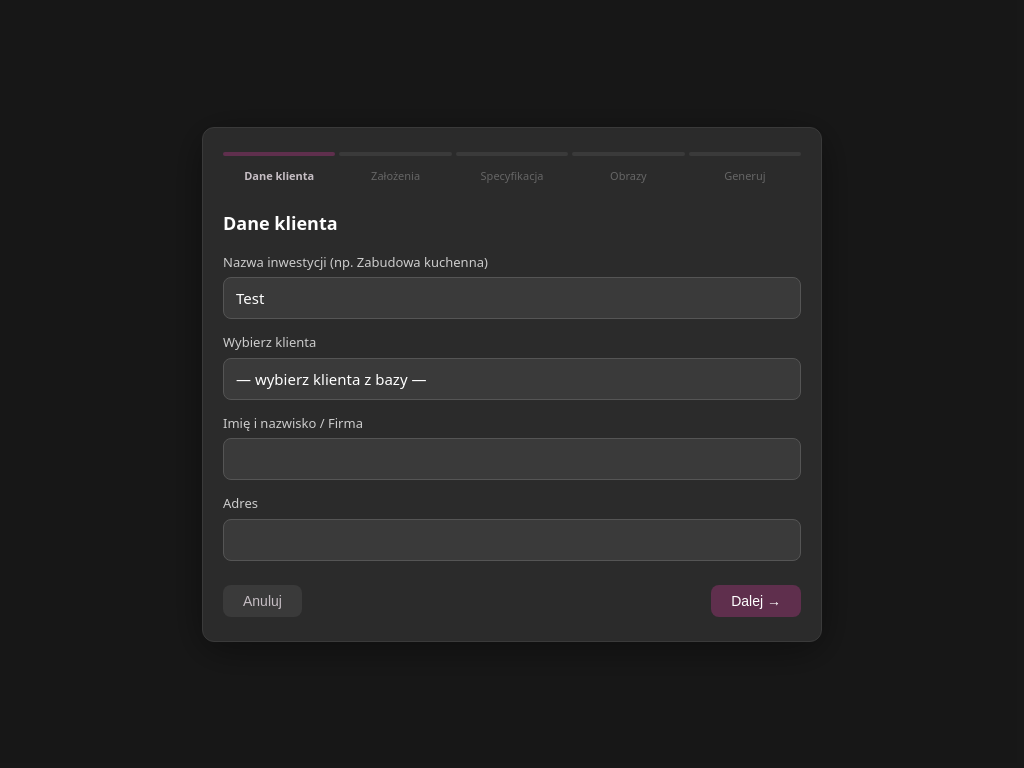
Test: KreatorPDF › krok 4: pokazuje kategorie obrazow i opcje wlasnych plikow
The image size is (1024, 768).
Expected: the field with placeholder "np. Zabudowa kuchenna" below "Nazwa inwestycji (np. Zabudowa kuchenna)" is shown, [223, 277, 801, 319]
Click the button "Dalej →": click(756, 600) [711, 584, 801, 616]
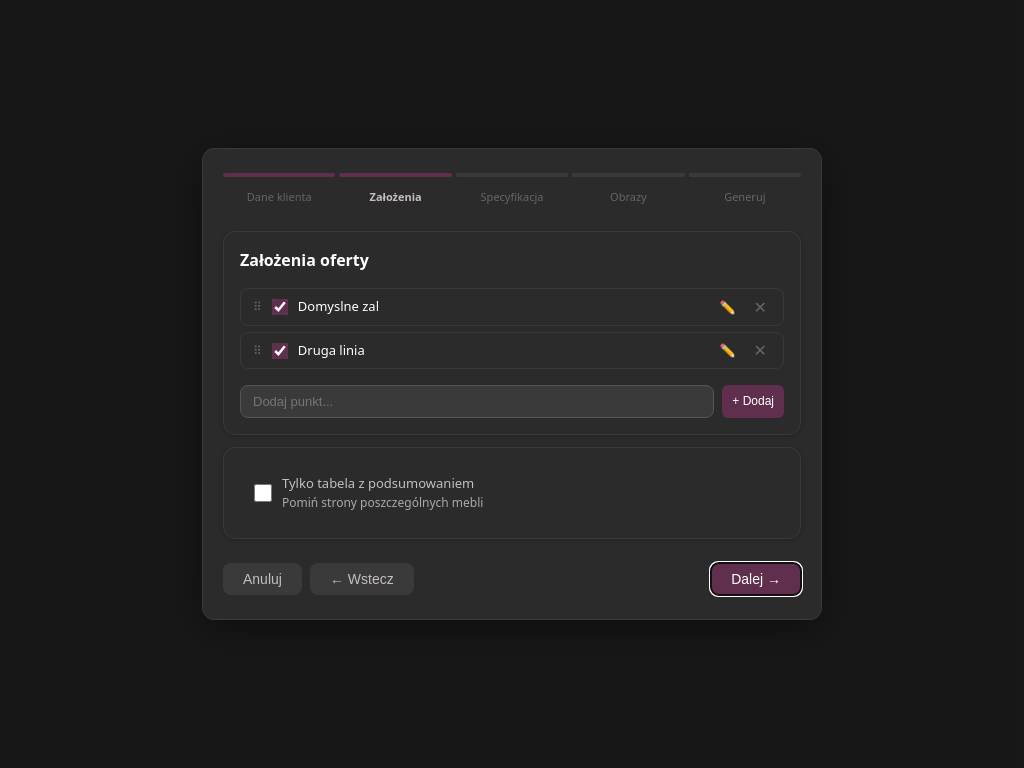
Click the button "Dalej →": click(756, 579) [711, 563, 801, 595]
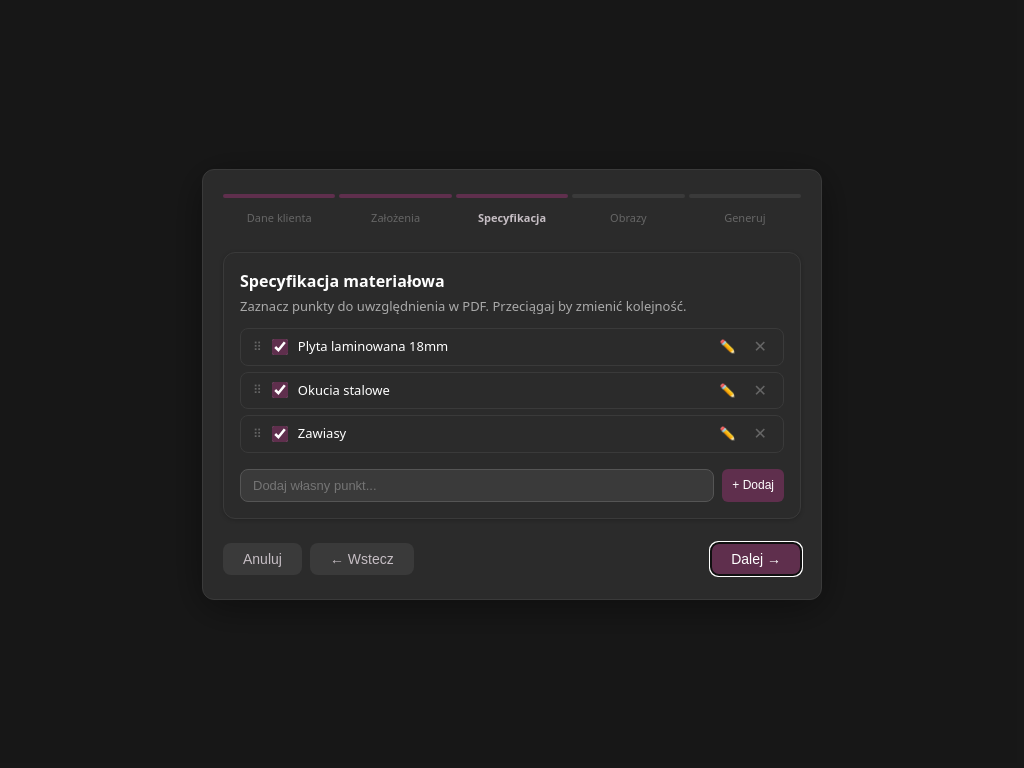
Click the button "Dalej →": click(756, 558) [711, 542, 801, 574]
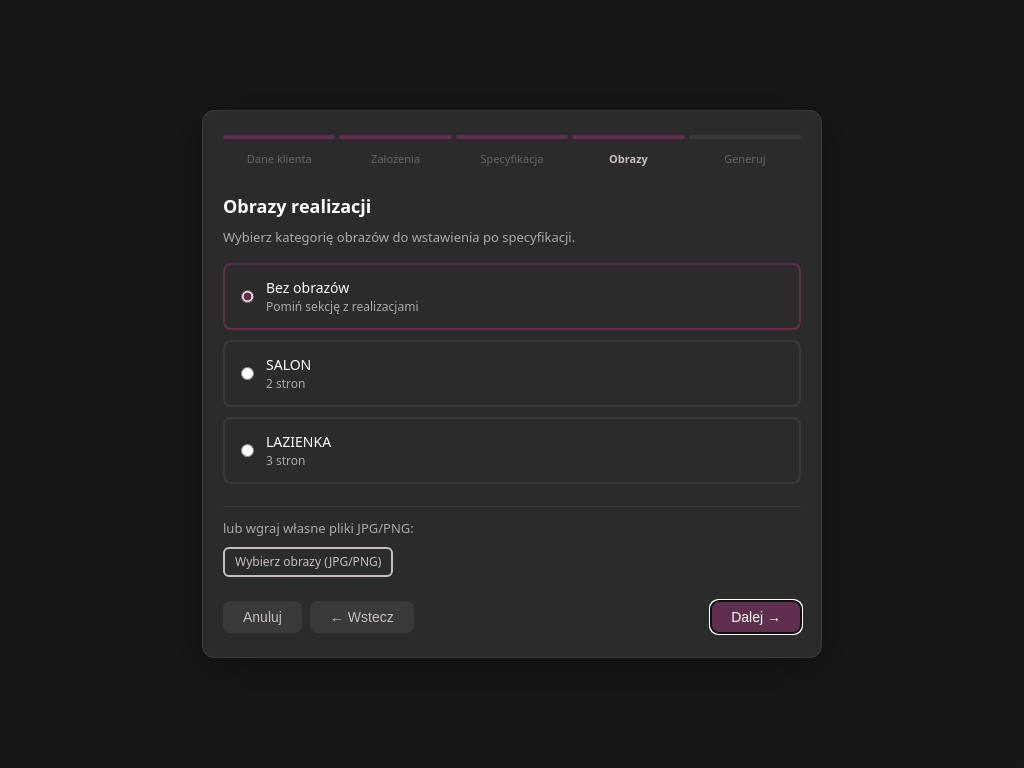
Expected: the text "SALON" is shown, [266, 354, 311, 375]
Expected: the text "LAZIENKA" is shown, [266, 431, 331, 452]
Expected: the text "Bez obrazów" is shown, [266, 278, 349, 297]
